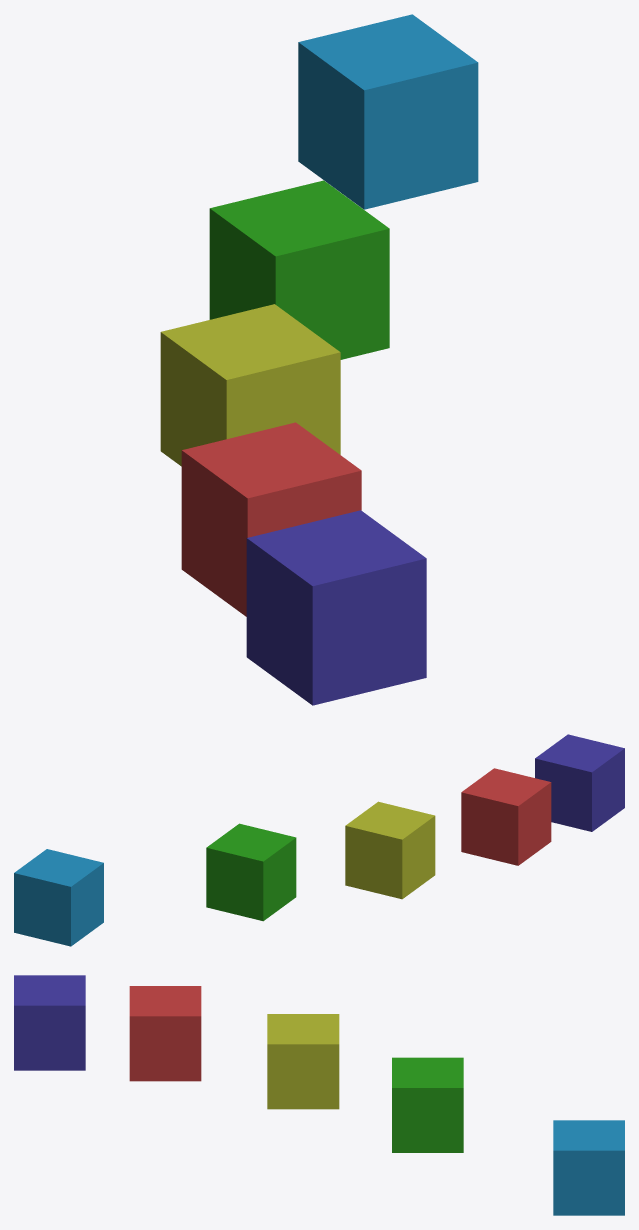
The model's file is dof.dae.
3 renders of one model, top to bottom at view 1: azimuth 30°, elevation 25°; view 2: azimuth 150°, elevation 25°; view 3: azimuth 270°, elevation 25°, orthographic. The views are drawn at different scales.
Parts seen in each view (by area): view 1: Cube-S3D-16-FLIPPED, Cube-S3D-17-FLIPPED, Cube-S3D-13-FLIPPED, Cube-S3D-14-FLIPPED, Cube-S3D-15-FLIPPED; view 2: Cube-S3D-15-FLIPPED, Cube-S3D-14-FLIPPED, Cube-S3D-13-FLIPPED, Cube-S3D-16-FLIPPED, Cube-S3D-17-FLIPPED; view 3: Cube-S3D-14-FLIPPED, Cube-S3D-15-FLIPPED, Cube-S3D-13-FLIPPED, Cube-S3D-16-FLIPPED, Cube-S3D-17-FLIPPED.
Part boxes in pixels (box(x1,y1,x2,y2)): Cube-S3D-16-FLIPPED: box(298, 14, 478, 209); Cube-S3D-17-FLIPPED: box(246, 510, 426, 705); Cube-S3D-13-FLIPPED: box(209, 180, 389, 359); Cube-S3D-14-FLIPPED: box(160, 304, 340, 466); Cube-S3D-15-FLIPPED: box(181, 422, 361, 616); Cube-S3D-15-FLIPPED: box(461, 768, 551, 865); Cube-S3D-14-FLIPPED: box(345, 801, 435, 899); Cube-S3D-13-FLIPPED: box(206, 823, 296, 921); Cube-S3D-16-FLIPPED: box(14, 849, 103, 946); Cube-S3D-17-FLIPPED: box(535, 734, 624, 831); Cube-S3D-14-FLIPPED: box(267, 1014, 339, 1109); Cube-S3D-15-FLIPPED: box(129, 986, 201, 1081); Cube-S3D-13-FLIPPED: box(392, 1057, 463, 1152); Cube-S3D-16-FLIPPED: box(553, 1120, 624, 1215); Cube-S3D-17-FLIPPED: box(14, 975, 85, 1070).
Size of what is drawn, in the model's own units: 5.79 by 1 by 8.52.
